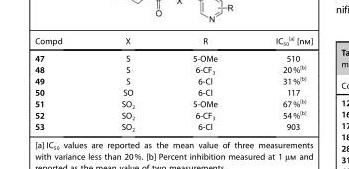table: (34, 35, 312, 132)
table column: (163, 35, 246, 132), (91, 35, 163, 132), (246, 35, 312, 132), (34, 35, 91, 132)
table column header: (34, 35, 312, 49)
table row: (34, 35, 312, 49), (34, 49, 312, 63), (34, 63, 312, 75), (34, 97, 312, 109), (34, 109, 312, 121), (34, 75, 312, 86), (34, 86, 312, 97), (34, 121, 312, 132)
